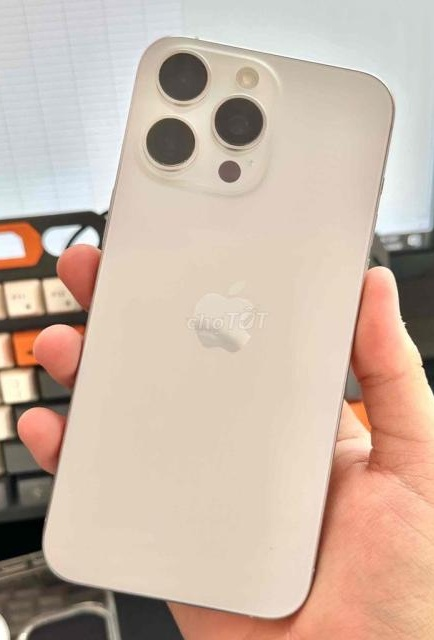scratch: (135, 110, 204, 177), (262, 540, 277, 554)
